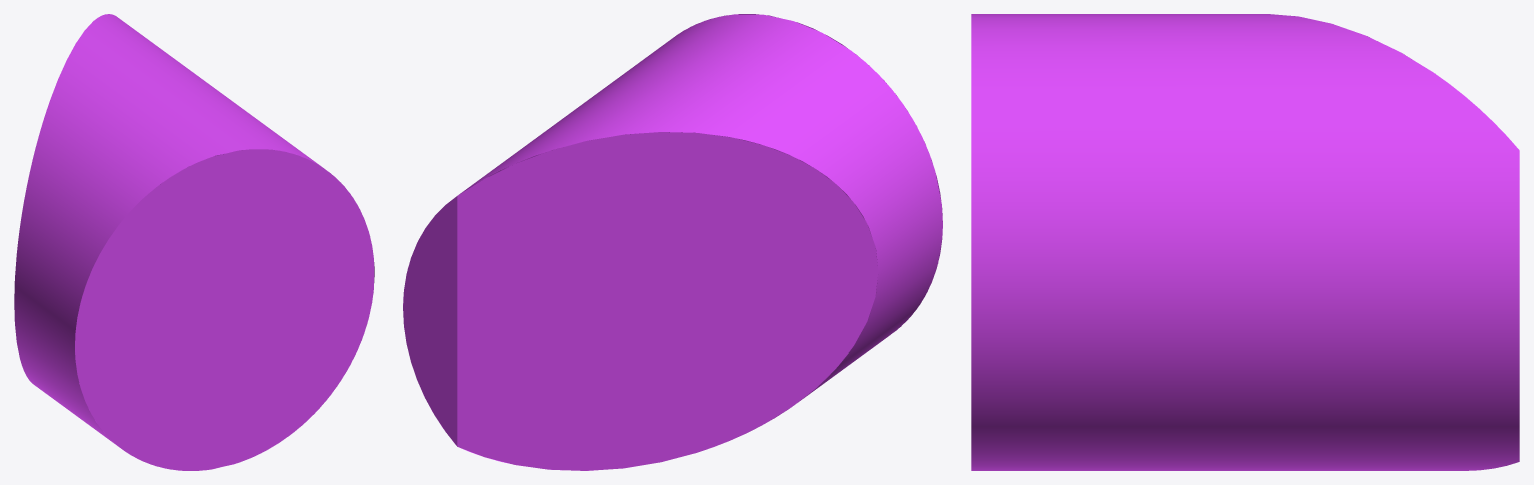
3 renders of one model, left to right at view 1: azimuth 30°, elevation 25°; view 2: azimuth 150°, elevation 25°; view 3: azimuth 270°, elevation 25°, orthographic. The views are drawn at different scales.
Visible parts, largest first — view 1: TRM_SRF (×3); view 2: TRM_SRF (×4); view 3: TRM_SRF (×2).
Boxes of the visible parts, x1,y1,x2,y2 form: TRM_SRF (×3): [14, 14, 374, 470]; TRM_SRF (×4): [403, 14, 942, 470]; TRM_SRF (×2): [971, 14, 1519, 470].
Bounding box in the file's own units: 19.69 × 19.69 × 23.62.
